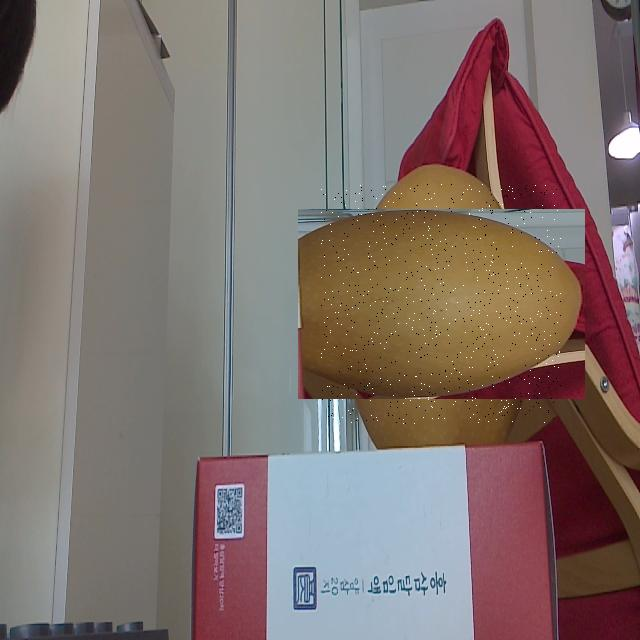pear: (321, 184, 561, 424)
